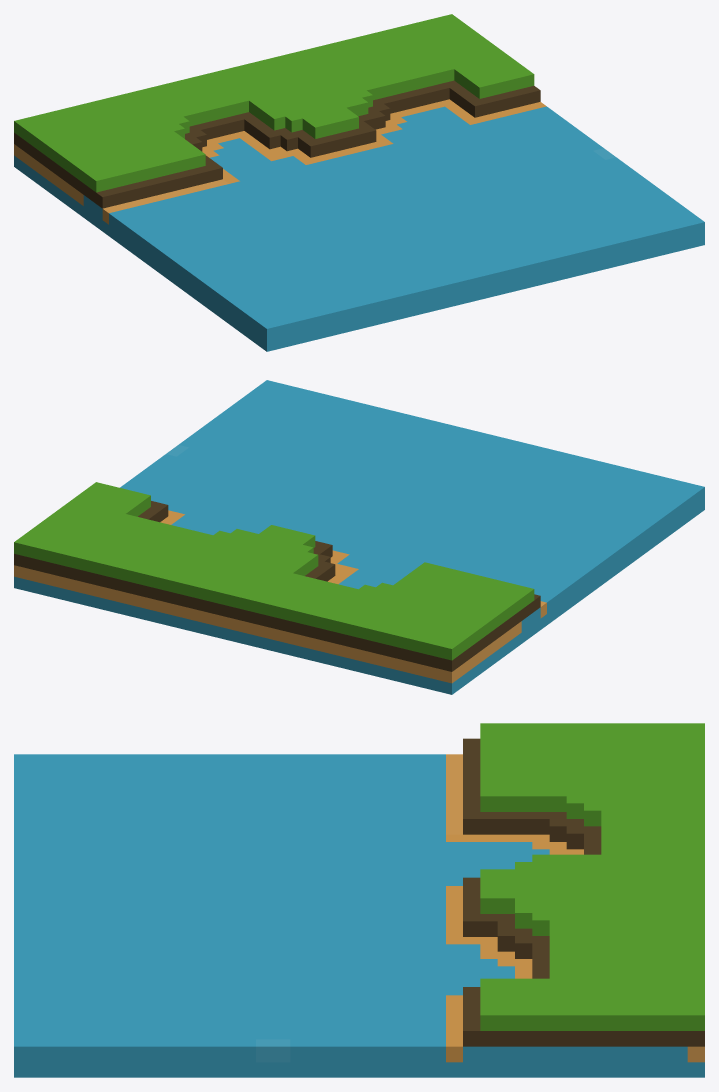
The model's file is river3-5-River.obj.
3 views of the same model, one above another, from view 1: azimuth 30°, elevation 25°; view 2: azimuth 150°, elevation 25°; view 3: azimuth 270°, elevation 25° (orthographic). The views are drawn at different scales.
Visible parts, largest first — view 1: River; view 2: River; view 3: River.
Boxes of the visible parts, x1,y1,x2,y2 form: River: (14, 14, 704, 351); River: (14, 380, 704, 694); River: (14, 723, 704, 1077).
Bounding box in the file's own units: 4 × 0.4 × 4.
Materials: 1 (1 with a texture image).
